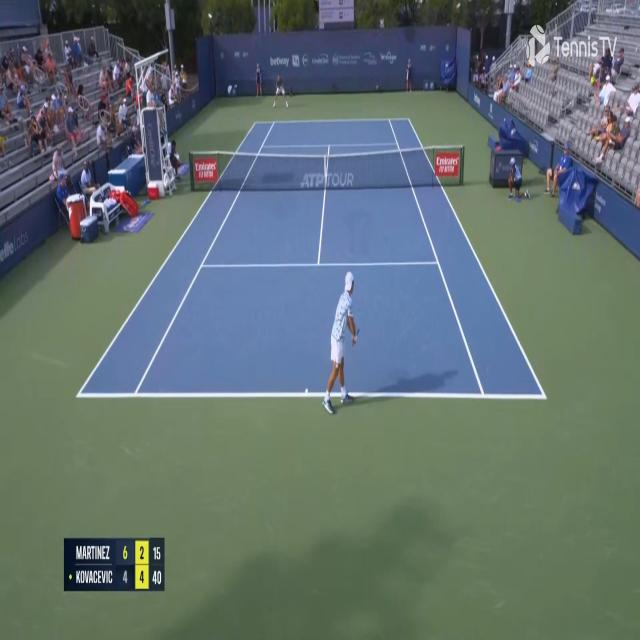tennis-player: (320, 267, 360, 418), (270, 72, 291, 111)
